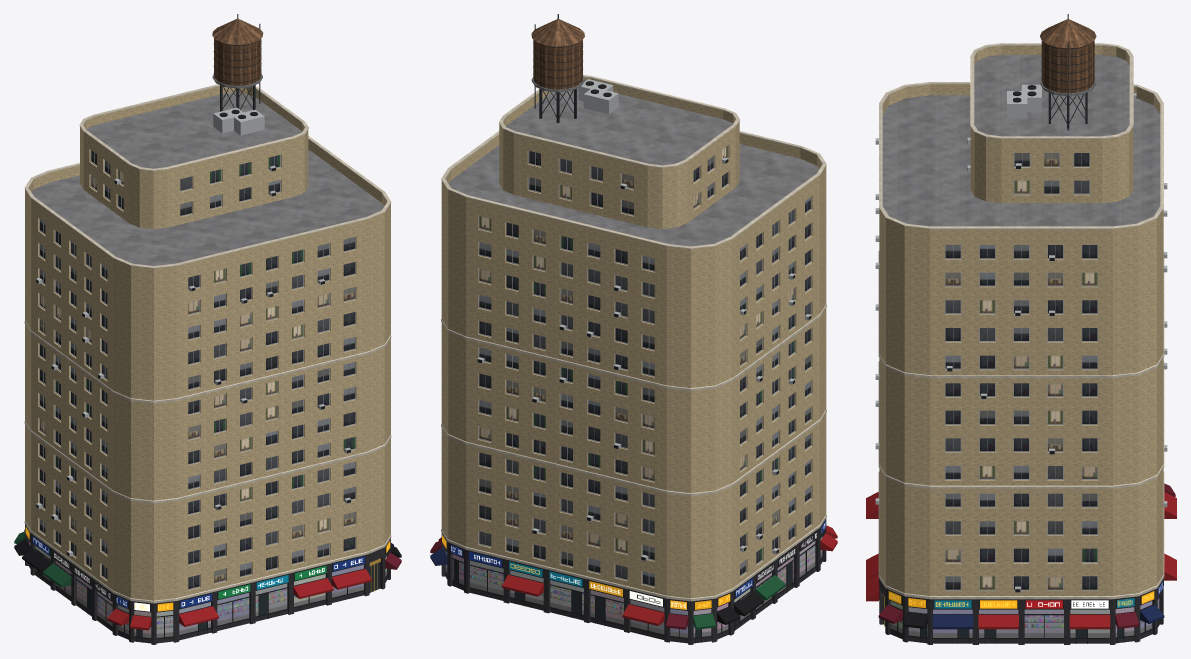
The model's file is hd03_rounded_corner_apartments.gltf.
The picture shows the model from 3 angles, left to right: view 1: azimuth 30°, elevation 25°; view 2: azimuth 150°, elevation 25°; view 3: azimuth 270°, elevation 25°; orthographic projection. The views are drawn at different scales.
Parts seen in each view (by area): view 1: hd03_rounded_corner_apartments_LOD0; view 2: hd03_rounded_corner_apartments_LOD0; view 3: hd03_rounded_corner_apartments_LOD0.
Part boxes in pixels (left/top/right/bottom): hd03_rounded_corner_apartments_LOD0: left=14, top=14, right=401, bottom=644; hd03_rounded_corner_apartments_LOD0: left=430, top=14, right=837, bottom=644; hd03_rounded_corner_apartments_LOD0: left=866, top=14, right=1176, bottom=644.
Size of what is drawn, in the model's own units: 36.6 by 63.6 by 30.6.
Materials: 21 (8 with a texture image).
